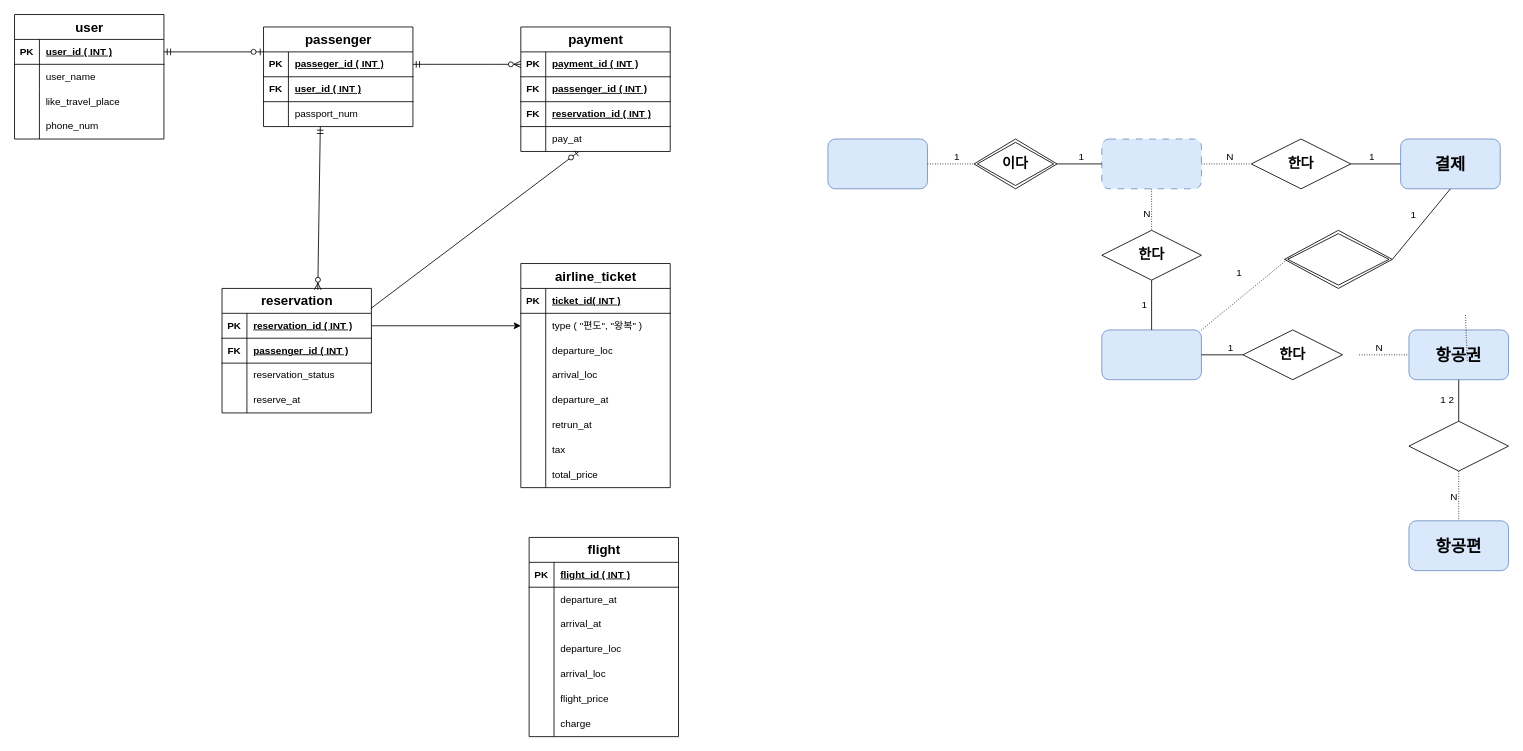
Image size: 1523x751. Some labels were removed from this diagram. The centre of each missing label's shape, as x and y in pixels:
"변경한다" goes at point 1338,258.
"속한다" goes at point 1458,445.
"승객" goes at point 1151,163.
"예약" goes at point 1151,354.
"유저" goes at point 877,163.
